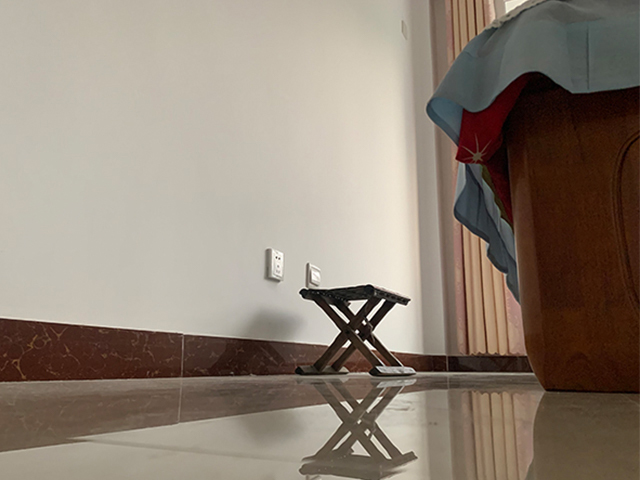bed: (424, 1, 640, 393)
curtain: (443, 1, 526, 357)
stool: (295, 284, 418, 376)
